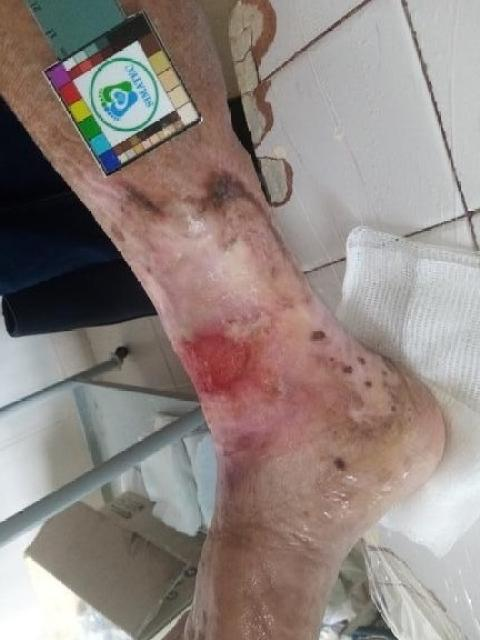wound: (176, 332, 253, 395)
